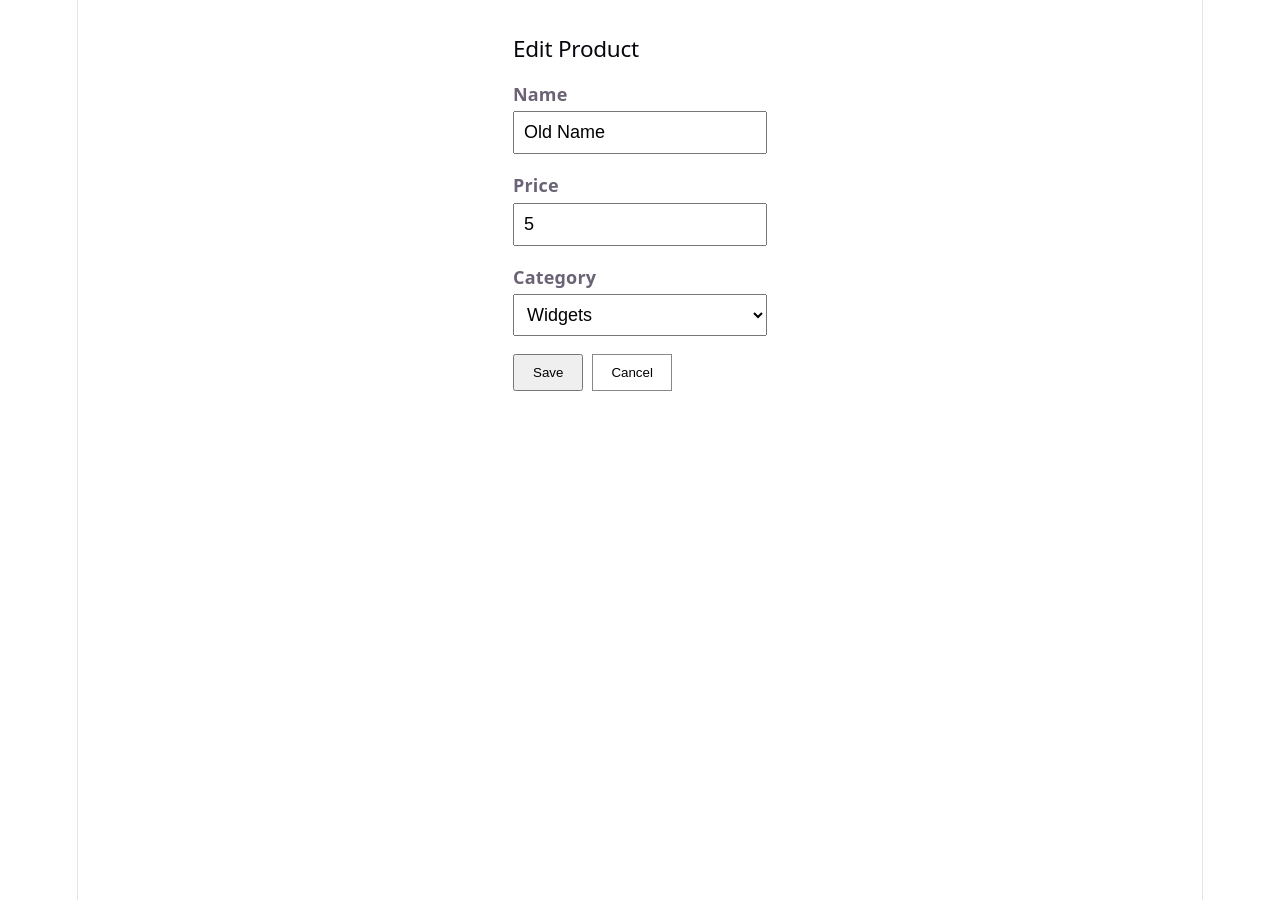
Test: ProductForm (edit mode) › shows a visible form-level error on a 404 and stays in edit mode
Expected: the dropdown labelled "Category" is enabled, [513, 294, 767, 336]
Click the button "Save" at coordinates (548, 373), box [513, 354, 583, 391]
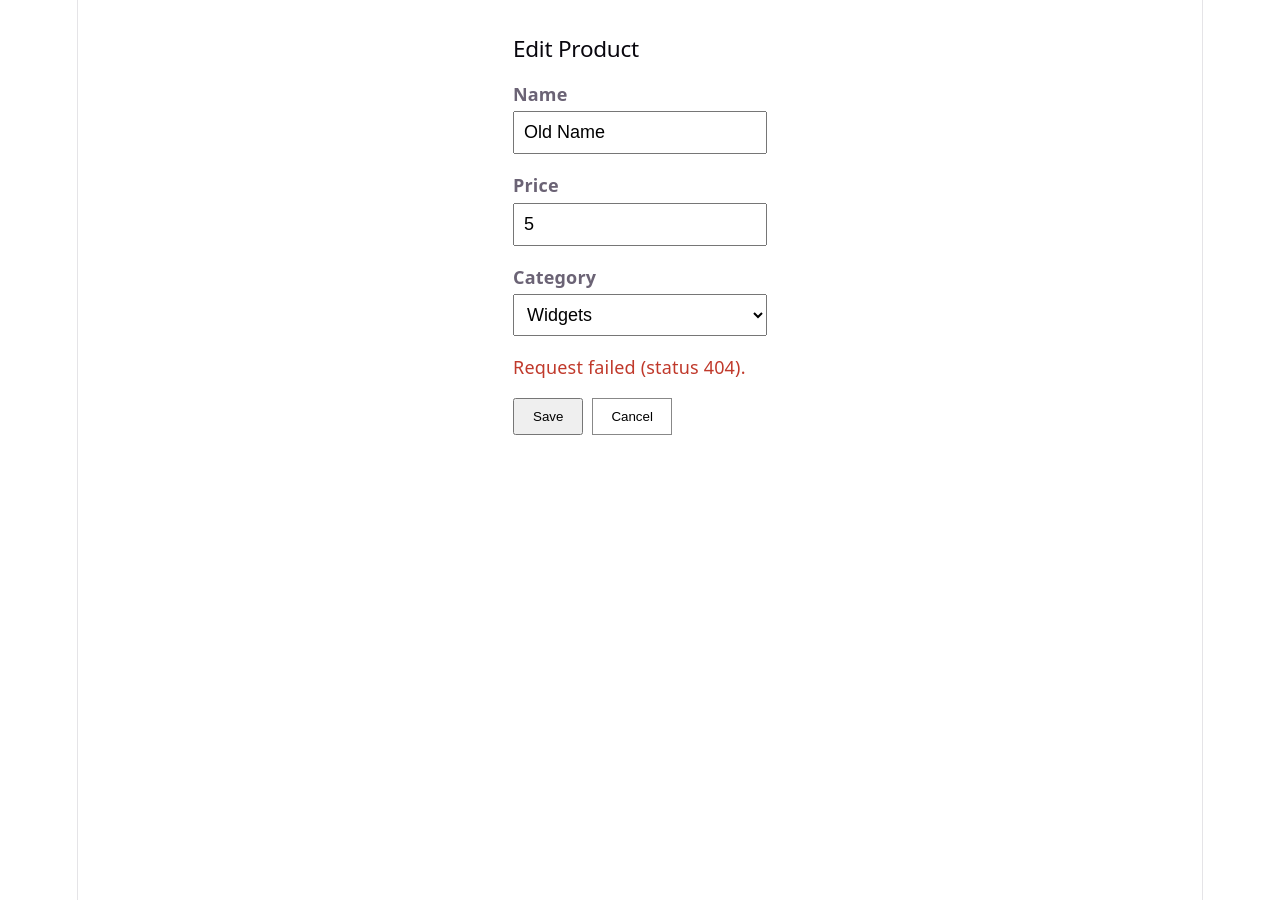
Expected: the button "Cancel" is shown, [592, 398, 672, 435]
Expected: the message reads "Request failed (status 404).", [513, 355, 746, 379]
